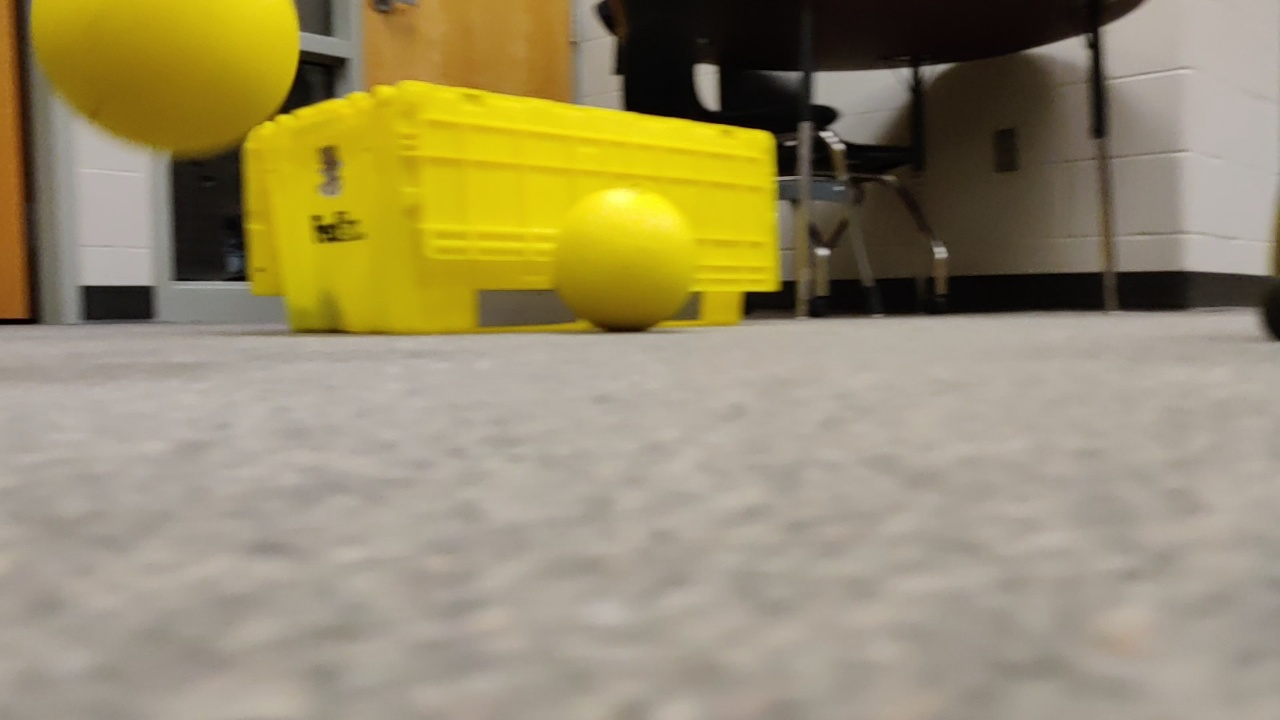Ball: (25, 2, 304, 165), (547, 185, 700, 329)
